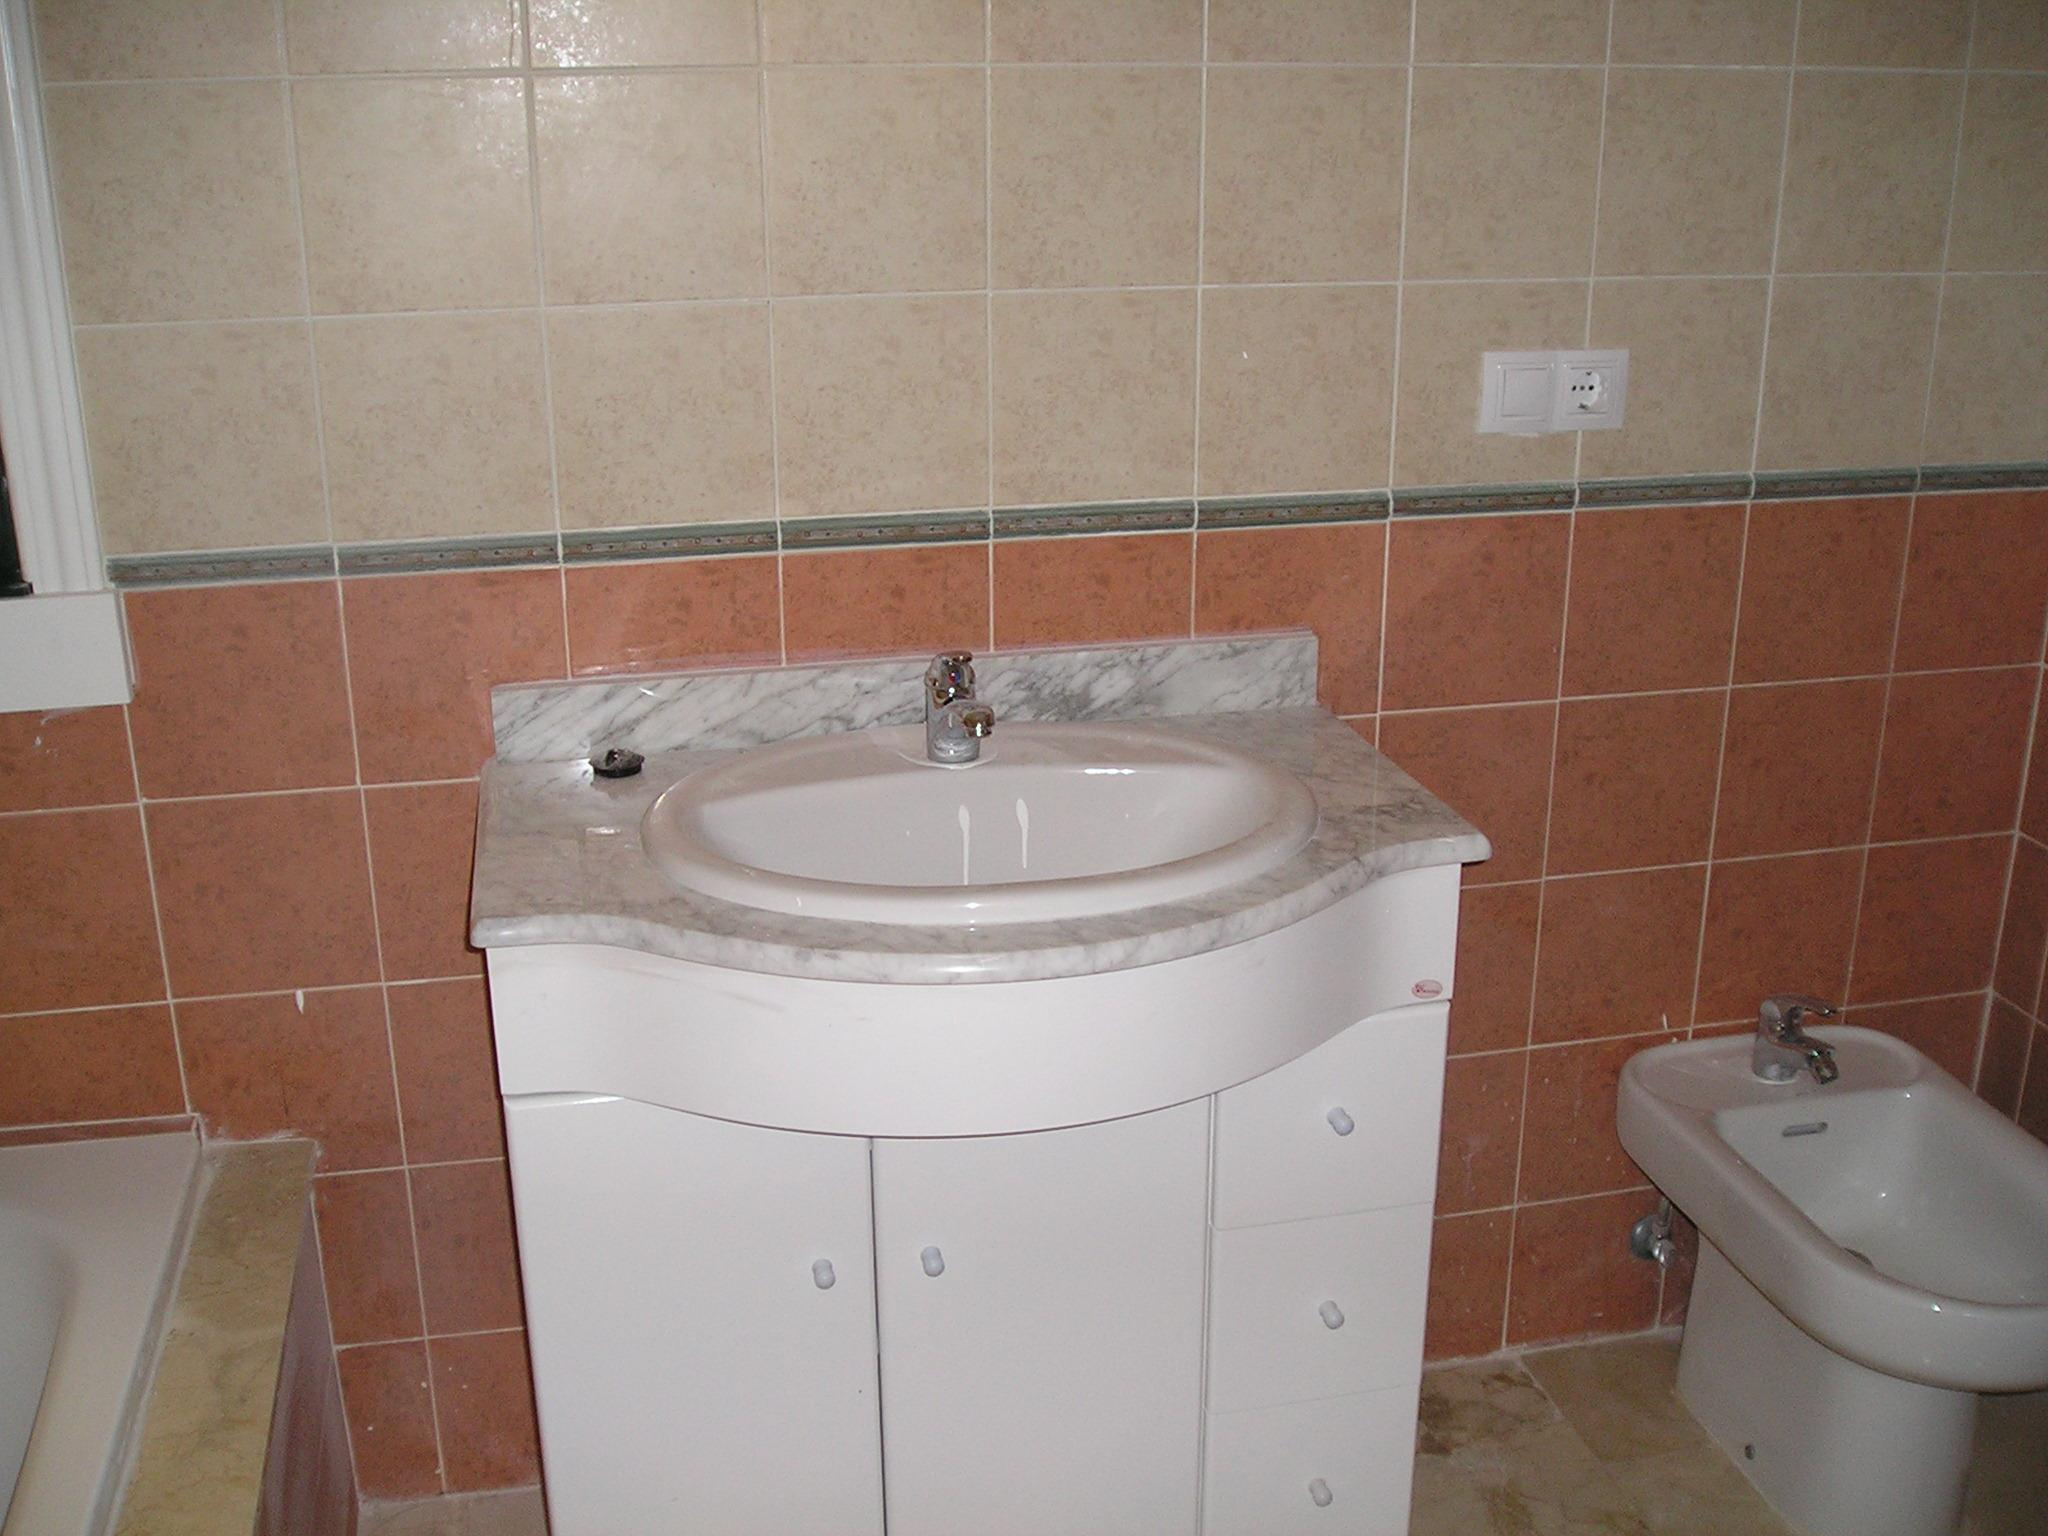Lavamanos: (637, 636, 1322, 920)
Sanitario: (1637, 983, 2032, 1530)
